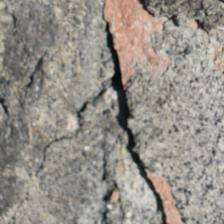Crack: (0, 30, 183, 122), (30, 15, 141, 100)
